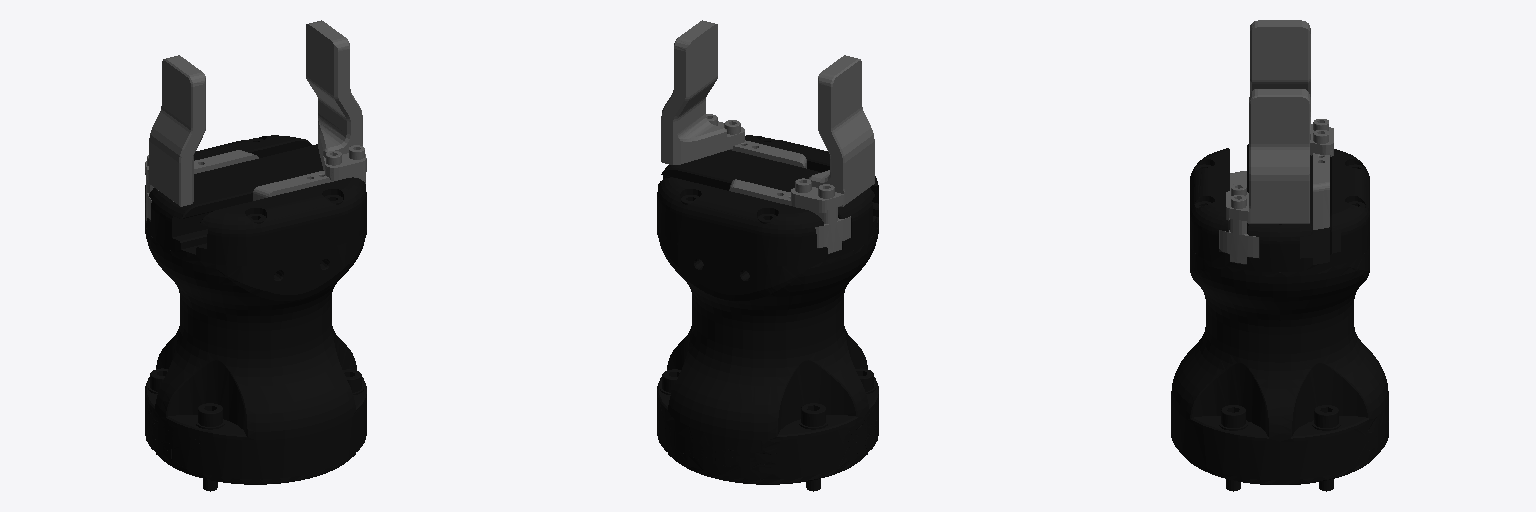
robot.urdf — robotiq_hande:
<robot name="robotiq_hande">
  <link name="hand_e_link">
    <inertial>
      <origin rpy="0 0 0" xyz="0 0 0.04607"/>
      <mass value="0.86387"/>
      <inertia ixx="1017560E-9" ixy="0" ixz="2235E-9" iyy="1028041E-9" iyz="0" izz="489810E-9"/>
    </inertial>
    <visual>
      <origin rpy="0 0 0" xyz="0 0 0"/>
      <geometry>
        <mesh filename="../meshes/gripper/hand-e.dae" scale="1.0 1.0 1.0"/>
      </geometry>
      <material name="Dark">
        <color rgba=".1 0.1 0.1 1.0"/>
      </material>
    </visual>
    <collision>
      <origin rpy="0 0 0" xyz="0 0 0"/>
      <geometry>
        <mesh filename="../meshes/gripper/hand-e.dae" scale="1.0 1.0 1.0"/>
      </geometry>
    </collision>
  </link>
  <link name="hande_left_finger">
    <inertial>
      <origin rpy="0 0 0" xyz="0.02262 -0.00759 0.00738"/>
      <mass value="0.03804"/>
      <inertia ixx="13567E-9" ixy="1849E-9" ixz="3622E-9" iyy="15784E-9" iyz="3616E-9" izz="7478E-9"/>
    </inertial>
    <visual>
      <origin rpy="0 0 0" xyz="0 0 0"/>
      <geometry>
        <mesh filename="../meshes/gripper/finger_1.dae" scale="1.0 1.0 1.0"/>
      </geometry>
      <material name="DarkGray">
        <color rgba=".4 0.4 0.4 1.0"/>
      </material>
    </visual>
    <collision>
      <origin rpy="0 0 0" xyz="0 0 0"/>
      <geometry>
        <mesh filename="../meshes/gripper/finger_1.dae" scale="1.0 1.0 1.0"/>
      </geometry>
    </collision>
  </link>
  <link name="hande_right_finger">
    <inertial>
      <origin rpy="0 0 0" xyz="-0.02262 0.00759 0.00738"/>
      <mass value="0.03804"/>
      <inertia ixx="13567E-9" ixy="1849E-9" ixz="-3622E-9" iyy="15784E-9" iyz="-3616E-9" izz="7478E-9"/>
    </inertial>
    <visual>
      <origin rpy="0 0 0" xyz="0 0 0"/>
      <geometry>
        <mesh filename="../meshes/gripper/finger_2.dae" scale="1.0 1.0 1.0"/>
      </geometry>
      <material name="DarkGray">
        <color rgba=".4 0.4 0.4 1.0"/>
      </material>
    </visual>
    <collision>
      <origin rpy="0 0 0" xyz="0 0 0"/>
      <geometry>
        <mesh filename="../meshes/gripper/finger_2.dae" scale="1.0 1.0 1.0"/>
      </geometry>
    </collision>
  </link>
  <joint name="hande_left_finger_joint" type="prismatic">
    <origin rpy="0 0 0" xyz="0 0 0.099"/>
    <parent link="hand_e_link"/>
    <child link="hande_left_finger"/>
    <axis xyz="-1 0 0"/>
    <limit effort="130" lower="0" upper="0.025" velocity="0.15"/>
  </joint>
  <joint name="hande_right_finger_joint" type="prismatic">
    <origin rpy="0 0 0" xyz="0 0 0.099"/>
    <parent link="hand_e_link"/>
    <child link="hande_right_finger"/>
    <axis xyz="1 0 0"/>
    <limit effort="130" lower="0" upper="0.025" velocity="0.15"/>
    <mimic joint="hande_left_finger_joint" multiplier="1" offset="0"/>
  </joint>
</robot>

--- Render facts (derived) ---
Views: 3 orthographic renders of the robot side by side, from view 1: azimuth 30°, elevation 25°; view 2: azimuth 150°, elevation 25°; view 3: azimuth 270°, elevation 25°.
Model robotiq_hande with 3 links and 2 joints (2 prismatic), rooted at hand_e_link, posed every joint at zero.
Links seen in each view (by area): view 1: hand_e_link, hande_left_finger, hande_right_finger; view 2: hand_e_link, hande_right_finger, hande_left_finger; view 3: hand_e_link, hande_left_finger, hande_right_finger.
Link boxes in pixels (x1,y1,x2,y2): hand_e_link: (145, 135, 366, 491); hande_left_finger: (253, 20, 366, 200); hande_right_finger: (145, 55, 258, 220); hand_e_link: (657, 135, 878, 491); hande_right_finger: (729, 55, 874, 253); hande_left_finger: (661, 20, 806, 168); hand_e_link: (1171, 144, 1388, 491); hande_left_finger: (1219, 89, 1309, 263); hande_right_finger: (1250, 20, 1333, 229).
Size in the robot's own frame: 0.075 by 0.075 by 0.1511 metres.
3 mesh visuals loaded from 3 distinct referenced files (3 Collada DAE).
